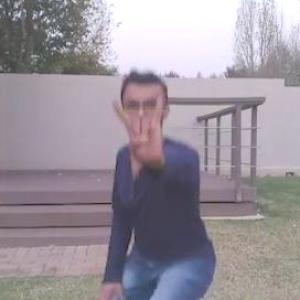takeoff-hand: (109, 84, 173, 163)
